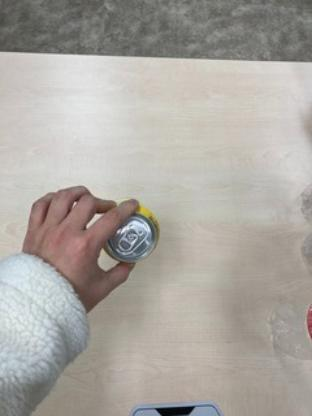Can: (100, 198, 161, 264)
